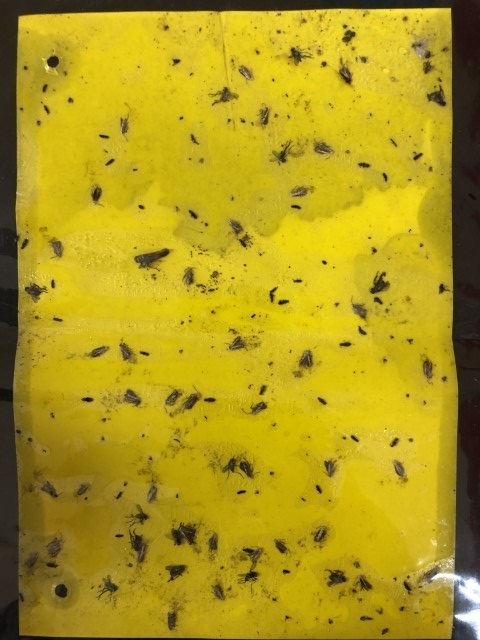DBM: (241, 397, 269, 420), (40, 479, 64, 505), (238, 457, 264, 481), (176, 521, 199, 548), (336, 60, 357, 89), (348, 295, 371, 321), (179, 388, 201, 413), (42, 537, 67, 558), (296, 347, 317, 371), (225, 333, 249, 354), (85, 342, 112, 360), (121, 388, 144, 409), (310, 523, 331, 545), (313, 140, 336, 160), (208, 582, 228, 604), (163, 387, 183, 409), (117, 342, 137, 364), (421, 356, 436, 385), (206, 529, 222, 556), (88, 184, 105, 209), (256, 101, 271, 129), (353, 574, 375, 593), (143, 484, 161, 507), (119, 113, 133, 142), (321, 458, 340, 479), (272, 536, 291, 556), (181, 264, 196, 289), (391, 457, 407, 480), (236, 64, 255, 83), (247, 545, 265, 565), (134, 544, 150, 566), (48, 239, 64, 261), (289, 185, 310, 200), (228, 218, 244, 236), (73, 483, 90, 498)
Other: (130, 240, 175, 277), (263, 139, 302, 166), (206, 84, 244, 110), (415, 559, 445, 590), (286, 43, 318, 70), (235, 568, 263, 596), (127, 502, 153, 532), (364, 269, 391, 297), (421, 81, 447, 109), (21, 281, 49, 307), (265, 281, 291, 309), (93, 573, 118, 602), (219, 451, 244, 479), (323, 565, 348, 590), (164, 562, 189, 585), (409, 35, 428, 57), (421, 59, 437, 78), (399, 576, 415, 595), (342, 28, 357, 48), (166, 610, 178, 635), (436, 281, 452, 298), (189, 130, 203, 147), (336, 339, 355, 351), (136, 346, 152, 360), (353, 159, 373, 170), (78, 394, 96, 406), (18, 236, 32, 251), (355, 324, 369, 339), (388, 135, 402, 150), (349, 430, 364, 444), (48, 313, 65, 324), (256, 383, 269, 397), (410, 151, 425, 163), (358, 615, 376, 625), (315, 395, 330, 407), (389, 436, 402, 449), (104, 154, 116, 168), (41, 101, 52, 116), (289, 277, 305, 287), (187, 209, 200, 221), (96, 132, 111, 142), (378, 626, 393, 636), (288, 202, 304, 211), (114, 488, 124, 500), (381, 169, 389, 184), (315, 481, 323, 495), (235, 488, 247, 496), (41, 82, 49, 94)
